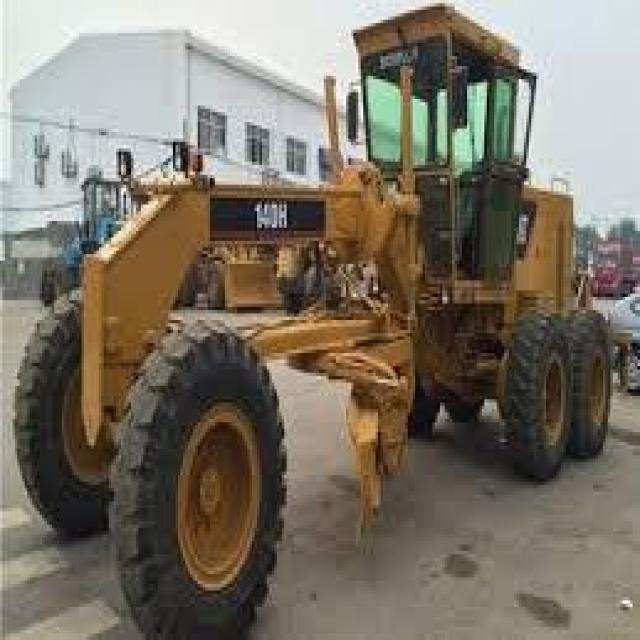buldozerpayloadergrader: (17, 0, 620, 633)
